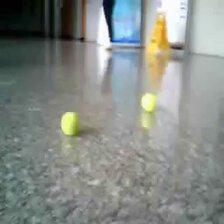tennis: (61, 111, 81, 135), (141, 93, 159, 112)
